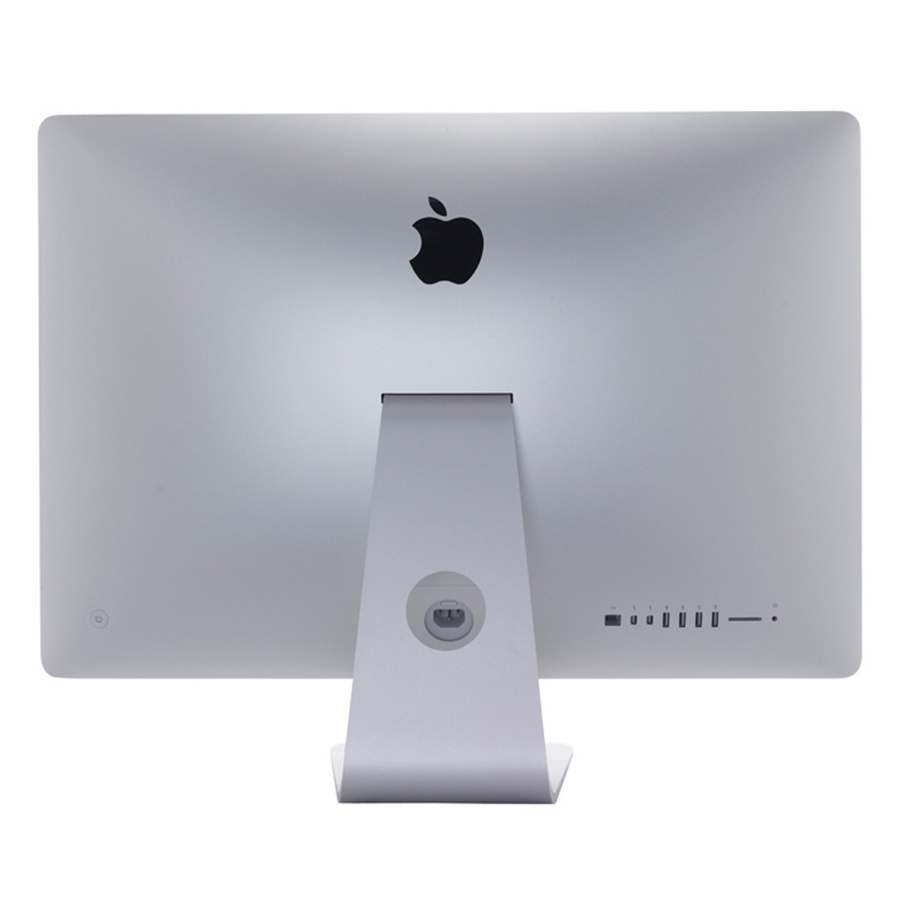Apple: (292, 198, 554, 333)
